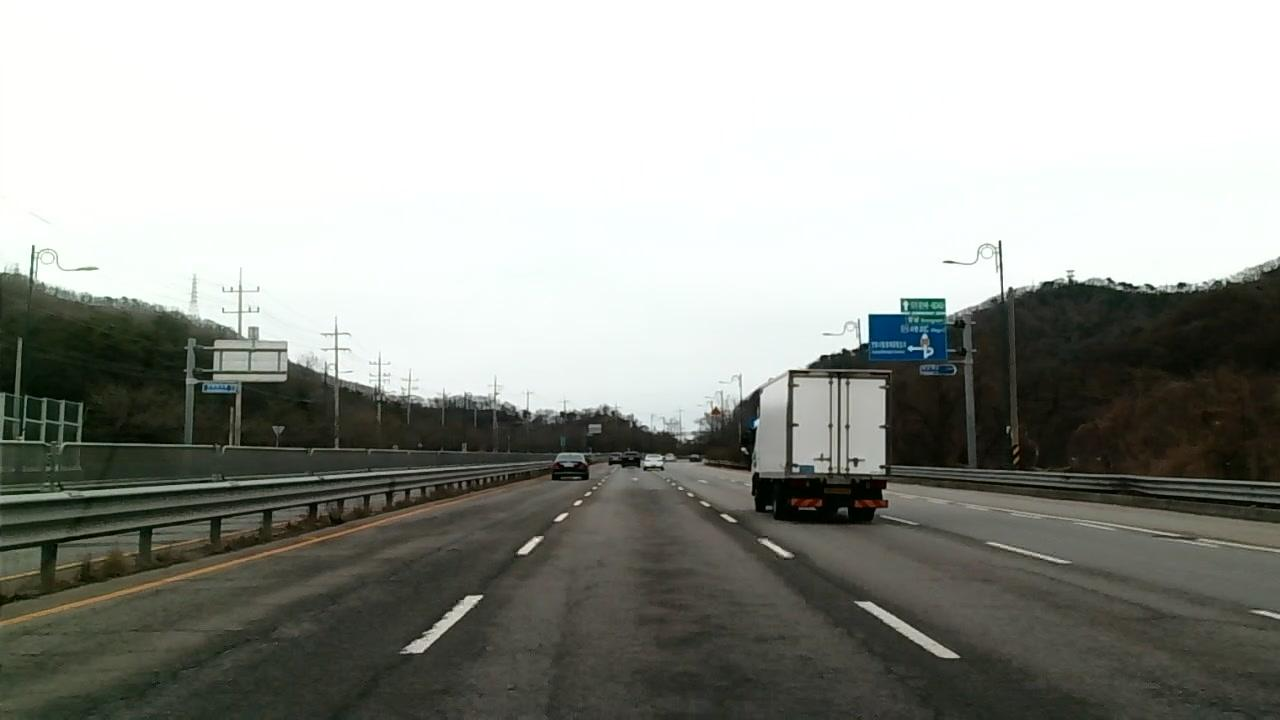banner: (29, 609, 334, 720), (809, 593, 941, 719), (644, 588, 762, 720), (1140, 655, 1280, 720), (325, 545, 447, 606), (415, 627, 493, 720)
